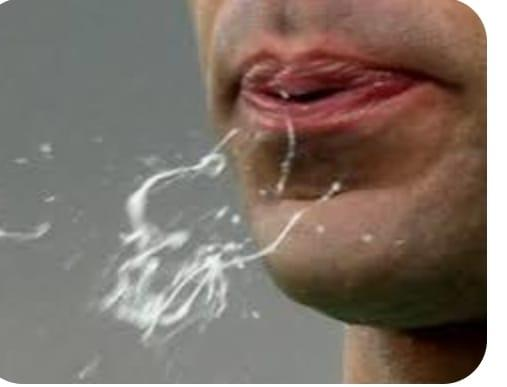Spitting: (62, 0, 488, 364)
